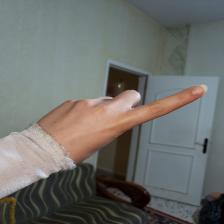one: (31, 83, 216, 151)
